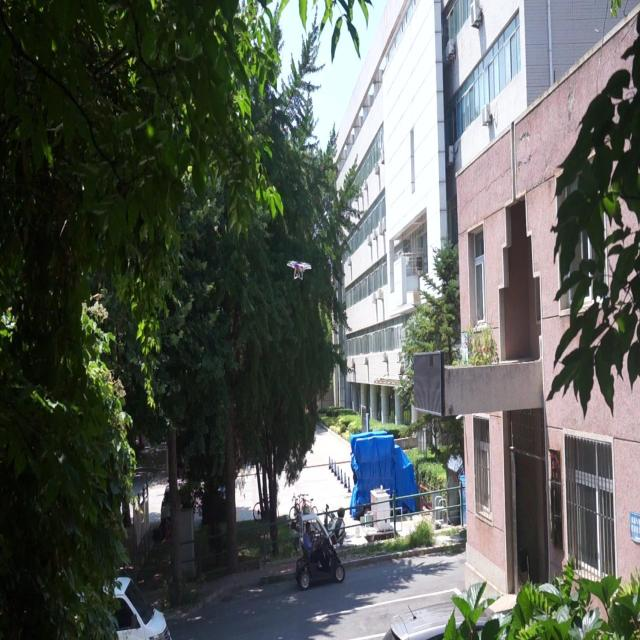drone: (284, 257, 312, 281)
